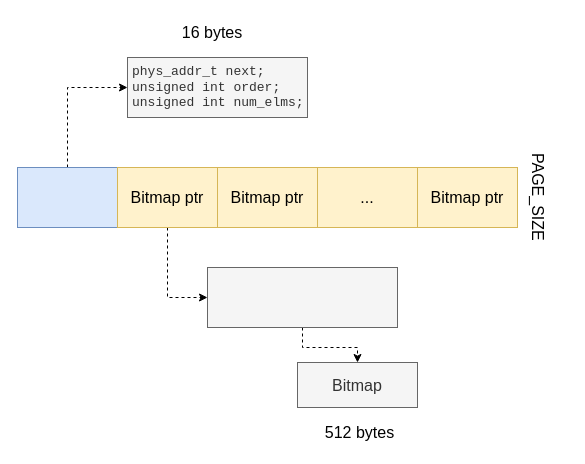
This 585x464 diagram has some shape labels left out. Here are the shapes that lost their labels. From the top down, the centre of each, then its label:
At (67,197): "Header".
At (302,297): "phys_addr_t phys_start; phys_addr_t bitmap;".
